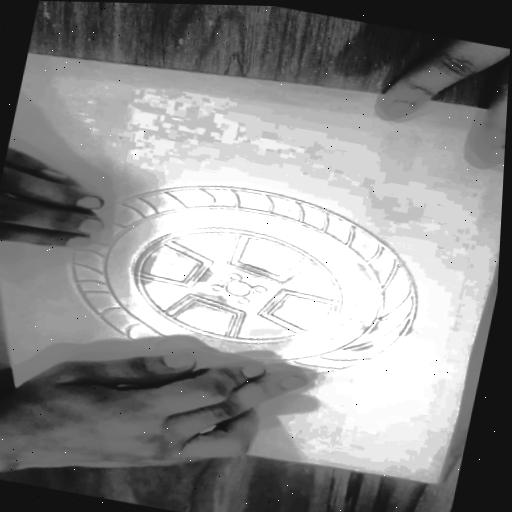bottom_right: (12, 412, 31, 423)
tire: (45, 161, 430, 406)
top_right: (425, 476, 446, 491)
